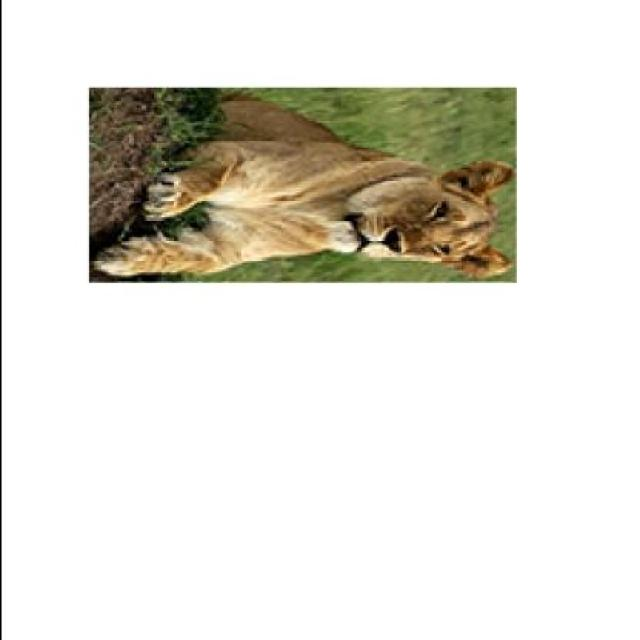Lion: (68, 79, 535, 298)
